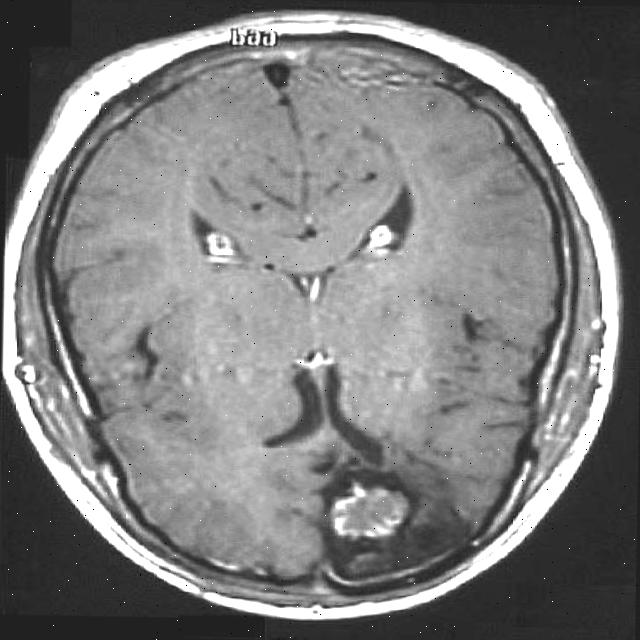tumor: (322, 472, 418, 554)
